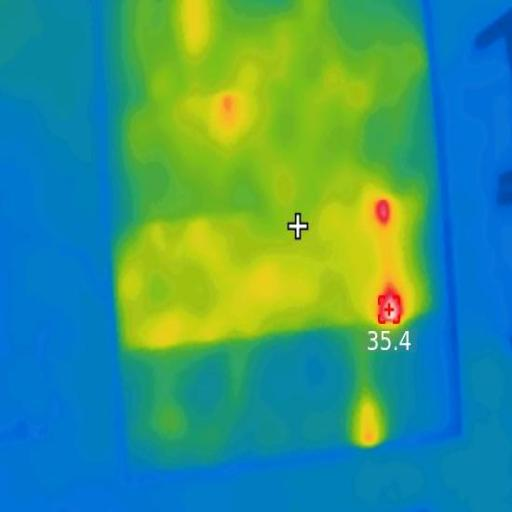hotspot: (376, 284, 406, 326), (372, 196, 393, 226)
